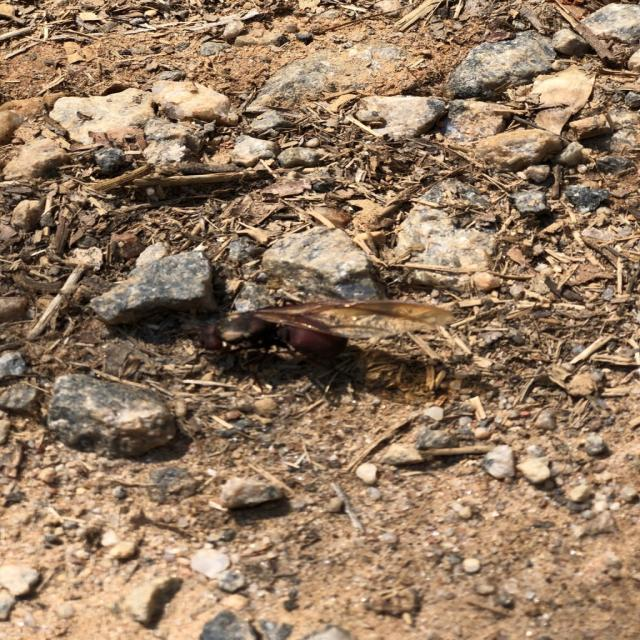Alive-Female-Alate: (168, 300, 454, 404)
